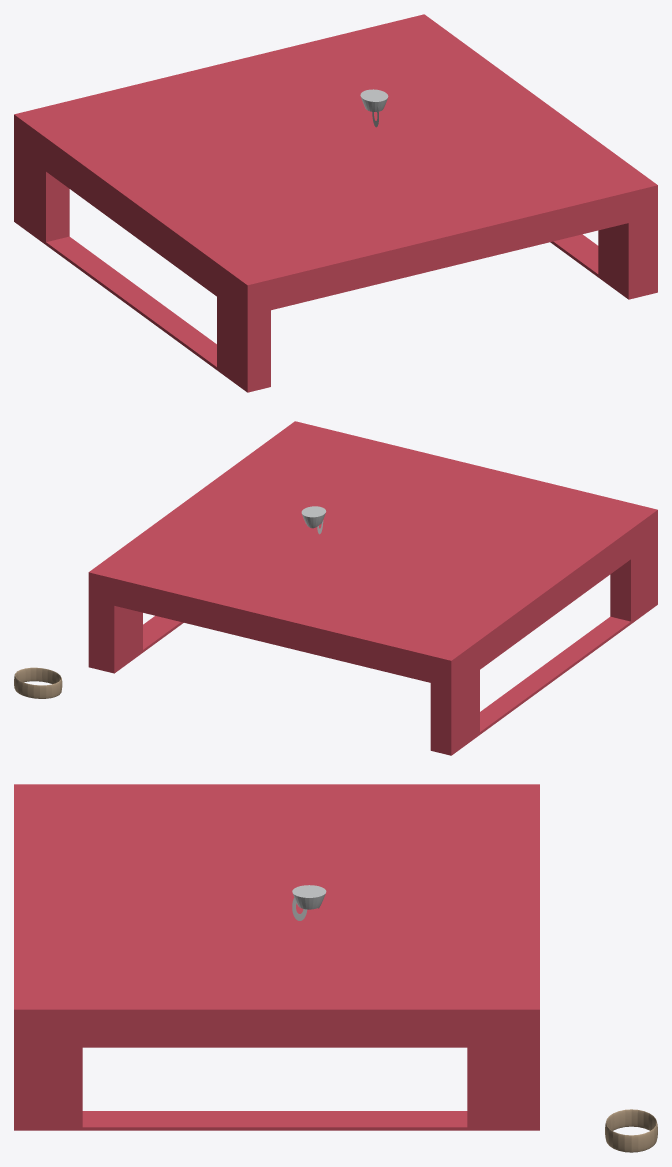
Rendered from IngeniousWaasa.glb.
3 views of the same model, one above another, from view 1: azimuth 30°, elevation 25°; view 2: azimuth 150°, elevation 25°; view 3: azimuth 270°, elevation 25° (orthographic). The views are drawn at different scales.
Parts seen in each view (by area): view 1: Mesh_Mesh_head_geo.001_lambert2SG.001; view 2: Mesh_Mesh_head_geo.001_lambert2SG.001; view 3: Mesh_Mesh_head_geo.001_lambert2SG.001.
Boxes of the visible parts, box(x1,y1,x2,y2) form: Mesh_Mesh_head_geo.001_lambert2SG.001: box(14, 14, 657, 392); Mesh_Mesh_head_geo.001_lambert2SG.001: box(14, 421, 657, 755); Mesh_Mesh_head_geo.001_lambert2SG.001: box(14, 784, 657, 1152).
Size of the model in its own units: 154 by 44.99 by 169.
